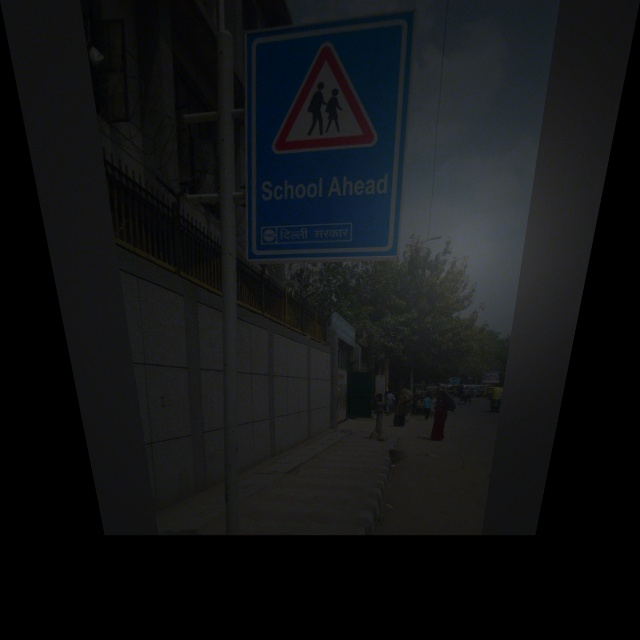School_Ahead: (263, 42, 394, 158)
